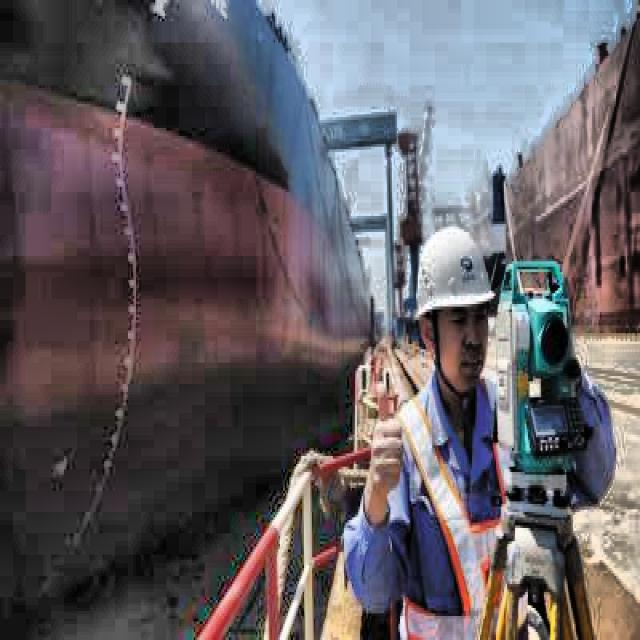helmet: (404, 208, 498, 397)
